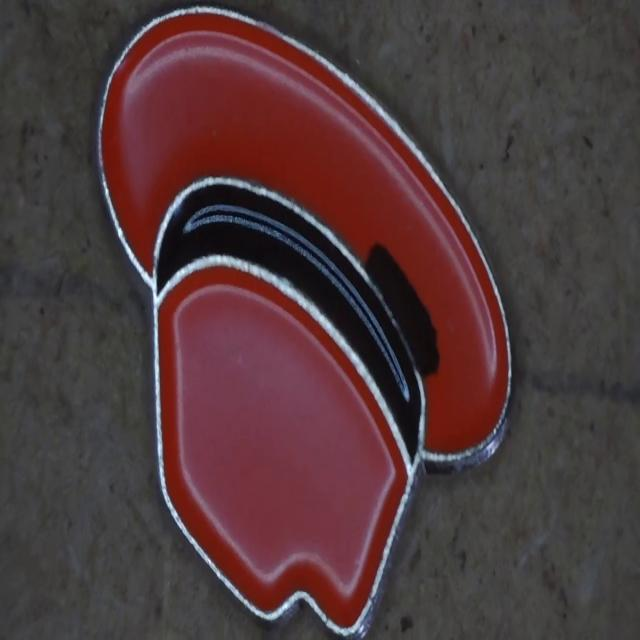Hatband: (156, 182, 421, 459)
Paint_Leak: (365, 244, 440, 377)
RedHatPin: (98, 9, 511, 634)
